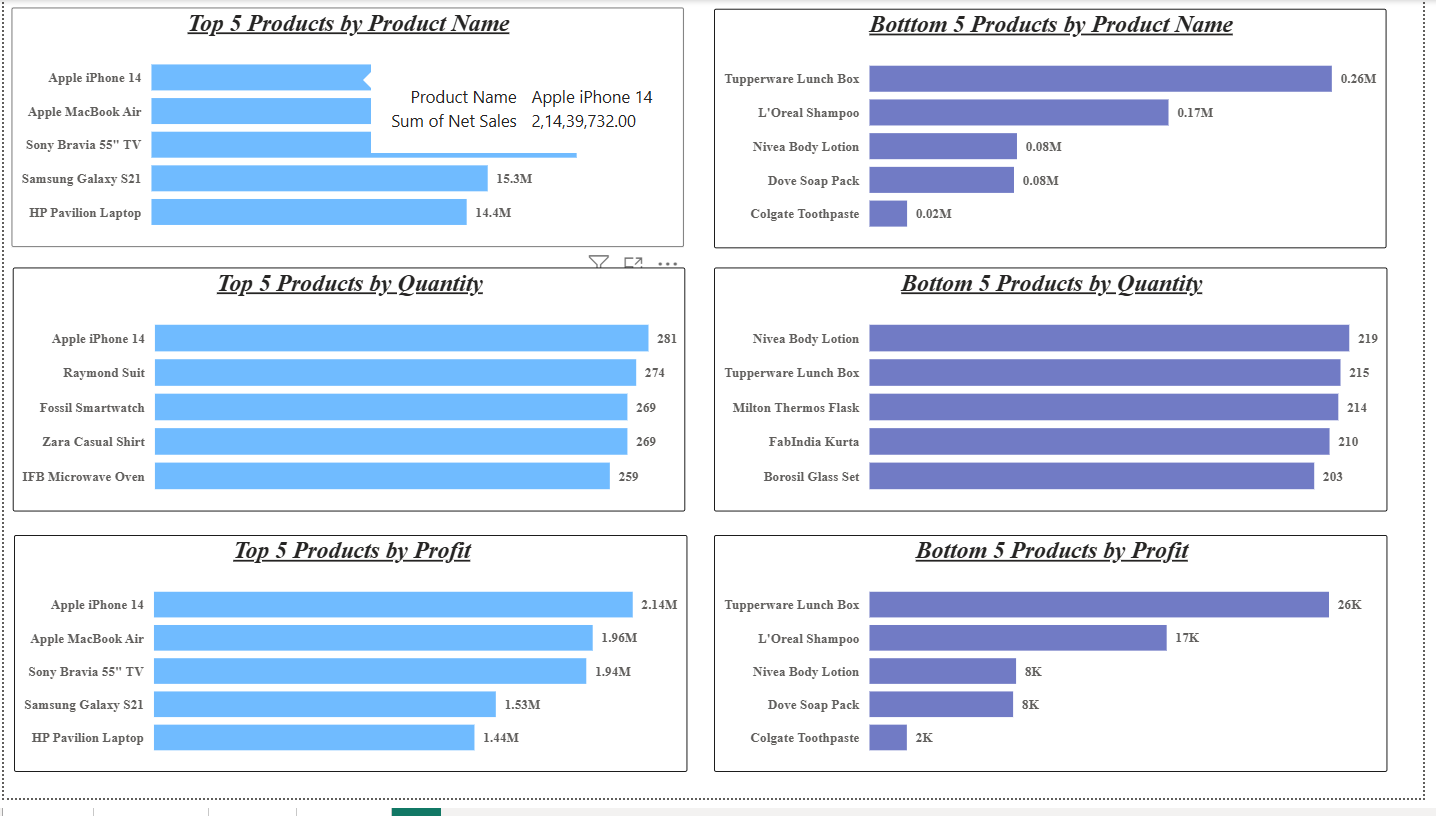

What the dashboard file says about the page in this screenshot:
{"tool":"powerbi","page":{"name":"Top N","canvas":[1280,720],"ordinal":0},"visuals":[{"type":"barChart","title":"Top 5 Products  by Product Name","fields":{"Category":["Dim Product.Product Name"],"Y":["Sum(Fact Table.Net Sales )"]},"box":[7.3,7.3,606.1,215.9],"z":0},{"type":"barChart","title":"Botttom  5 Products  by Product Name","fields":{"Category":["Dim Product.Product Name"],"Y":["Sum(Fact Table.Net Sales )"]},"box":[640,7.5,606.2,216.2],"z":1000},{"type":"barChart","title":"Top 5 Products  by Quantity ","fields":{"Category":["Dim Product.Product Name"],"Y":["Sum(Fact Table.Units Sold)"]},"box":[7.5,241.2,606.2,220],"z":2000},{"type":"barChart","title":"Bottom  5 Products  by Quantity","fields":{"Category":["Dim Product.Product Name"],"Y":["Sum(Fact Table.Units Sold)"]},"box":[640,241.2,607.5,220],"z":3000},{"type":"barChart","title":"Top 5 Products  by Profit","fields":{"Category":["Dim Product.Product Name"],"Y":["Sum(Fact Table.Profit)"]},"box":[8.8,482.5,607.5,213.8],"z":4000},{"type":"barChart","title":"Bottom 5 Products  by Profit","fields":{"Category":["Dim Product.Product Name"],"Y":["Sum(Fact Table.Profit)"]},"box":[640,482.5,607.5,213.8],"z":5000}]}

Visuals, with their boxes in screenshot pixels (x1, y1, x2, y2), scaled from the page's 1280x720 canvas onto the 1436x816 screenshot:
"Top 5 Products  by Product Name" barChart: region(8, 8, 688, 253)
"Botttom  5 Products  by Product Name" barChart: region(718, 8, 1398, 254)
"Top 5 Products  by Quantity " barChart: region(8, 273, 688, 523)
"Bottom  5 Products  by Quantity" barChart: region(718, 273, 1400, 523)
"Top 5 Products  by Profit" barChart: region(10, 547, 691, 789)
"Bottom 5 Products  by Profit" barChart: region(718, 547, 1400, 789)
